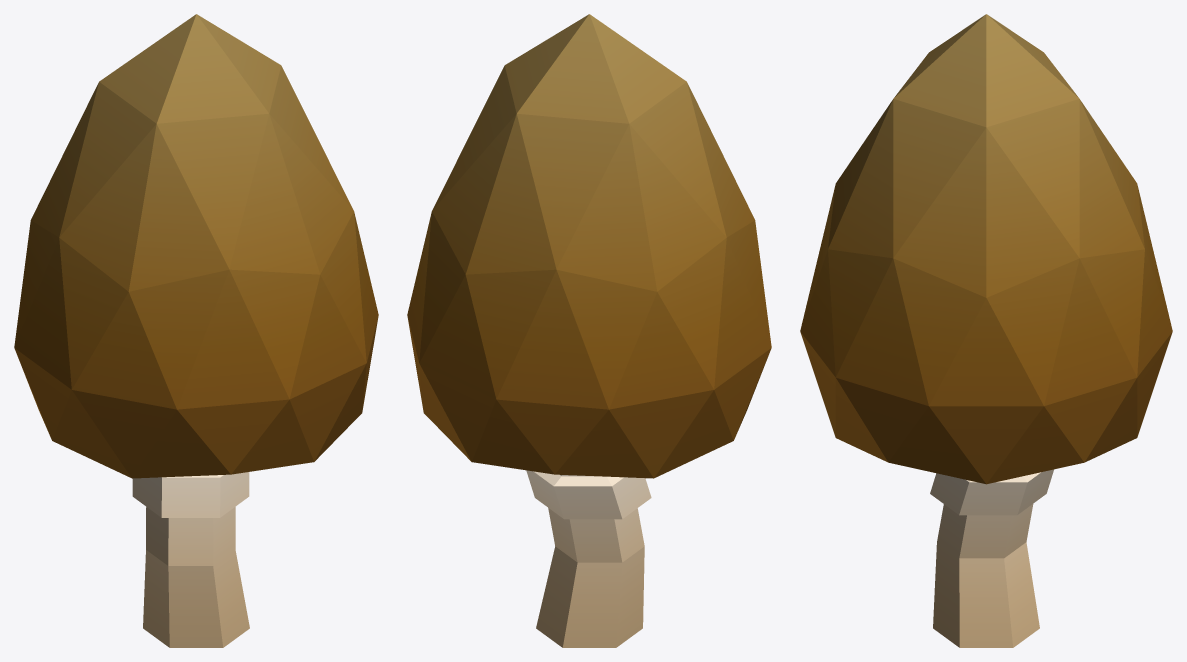
Rendered from Mushroom_01.fbx.
The picture shows the model from 3 angles, left to right: view 1: azimuth 30°, elevation 25°; view 2: azimuth 150°, elevation 25°; view 3: azimuth 270°, elevation 25°; orthographic projection.
Visible parts, largest first — view 1: Mushroom_01; view 2: Mushroom_01; view 3: Mushroom_01.
Boxes of the visible parts, left/top/right/bottom form: Mushroom_01: left=14, top=14, right=378, bottom=647; Mushroom_01: left=407, top=14, right=771, bottom=647; Mushroom_01: left=800, top=14, right=1172, bottom=647.
Size of the model in its own units: 0.2958 by 0.5658 by 0.311.
